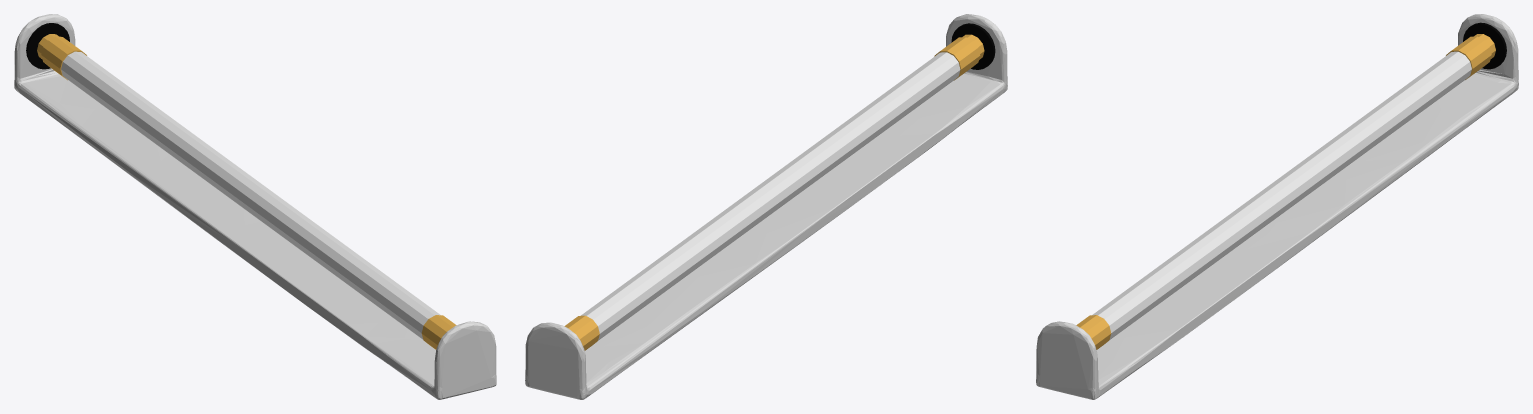
3 views of the same model, side by side, from view 1: azimuth 30°, elevation 25°; view 2: azimuth 150°, elevation 25°; view 3: azimuth 330°, elevation 25° (orthographic).
Visible parts, largest first — view 1: base, Cylinder 6 ext, Mirror; view 2: base, Cylinder 6 ext, Mirror; view 3: base, Cylinder 6 ext, Mirror.
Part boxes in pixels (x1,y1,x2,y2): base: [14, 14, 496, 399]; Cylinder 6 ext: [61, 51, 440, 339]; Mirror: [37, 34, 456, 349]; base: [525, 14, 1007, 399]; Cylinder 6 ext: [581, 52, 960, 340]; Mirror: [564, 34, 984, 350]; base: [1036, 14, 1518, 399]; Cylinder 6 ext: [1092, 51, 1471, 339]; Mirror: [1076, 34, 1495, 349].
Size of the model in its own units: 92.26 by 102 by 1121.
